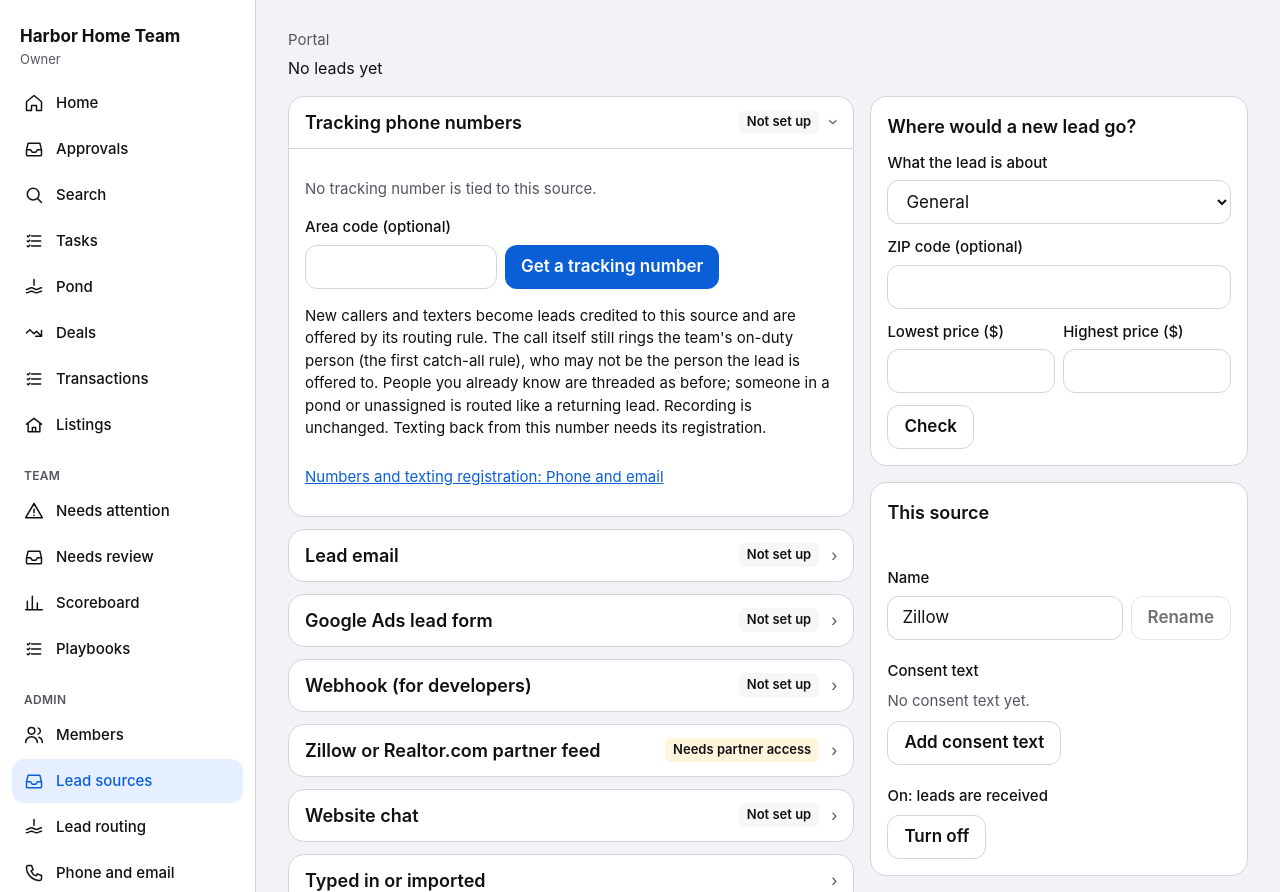
Test: A lead source: webhook, phone numbers, partner feeds › a number bought but not tied says the server’s notice as is
(page scrolled)
Click the button "Get a tracking number": (612, 266) [505,244,719,288]
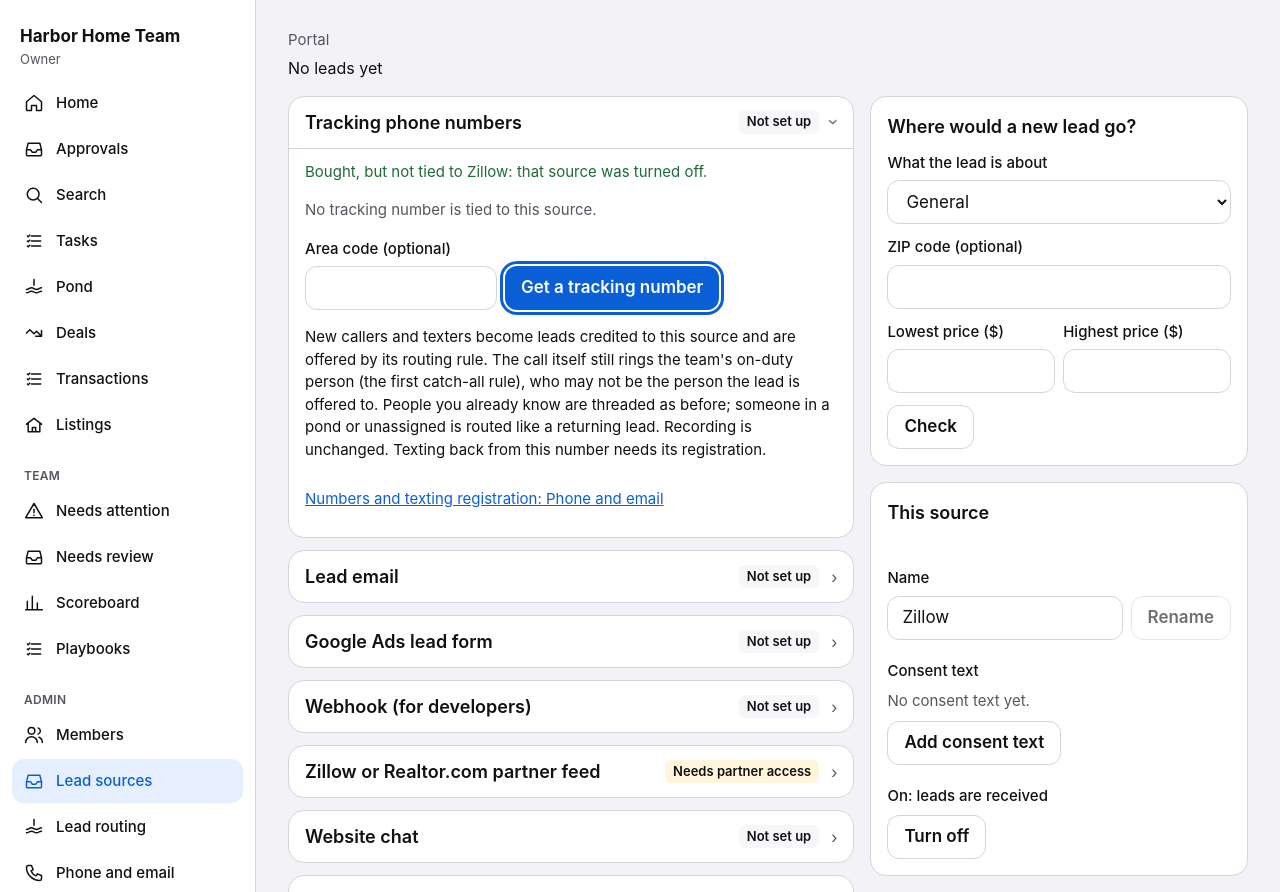
Expected: the text "Bought, but not tied to Zillow: that source was turned off." is shown, [305,162,707,180]
